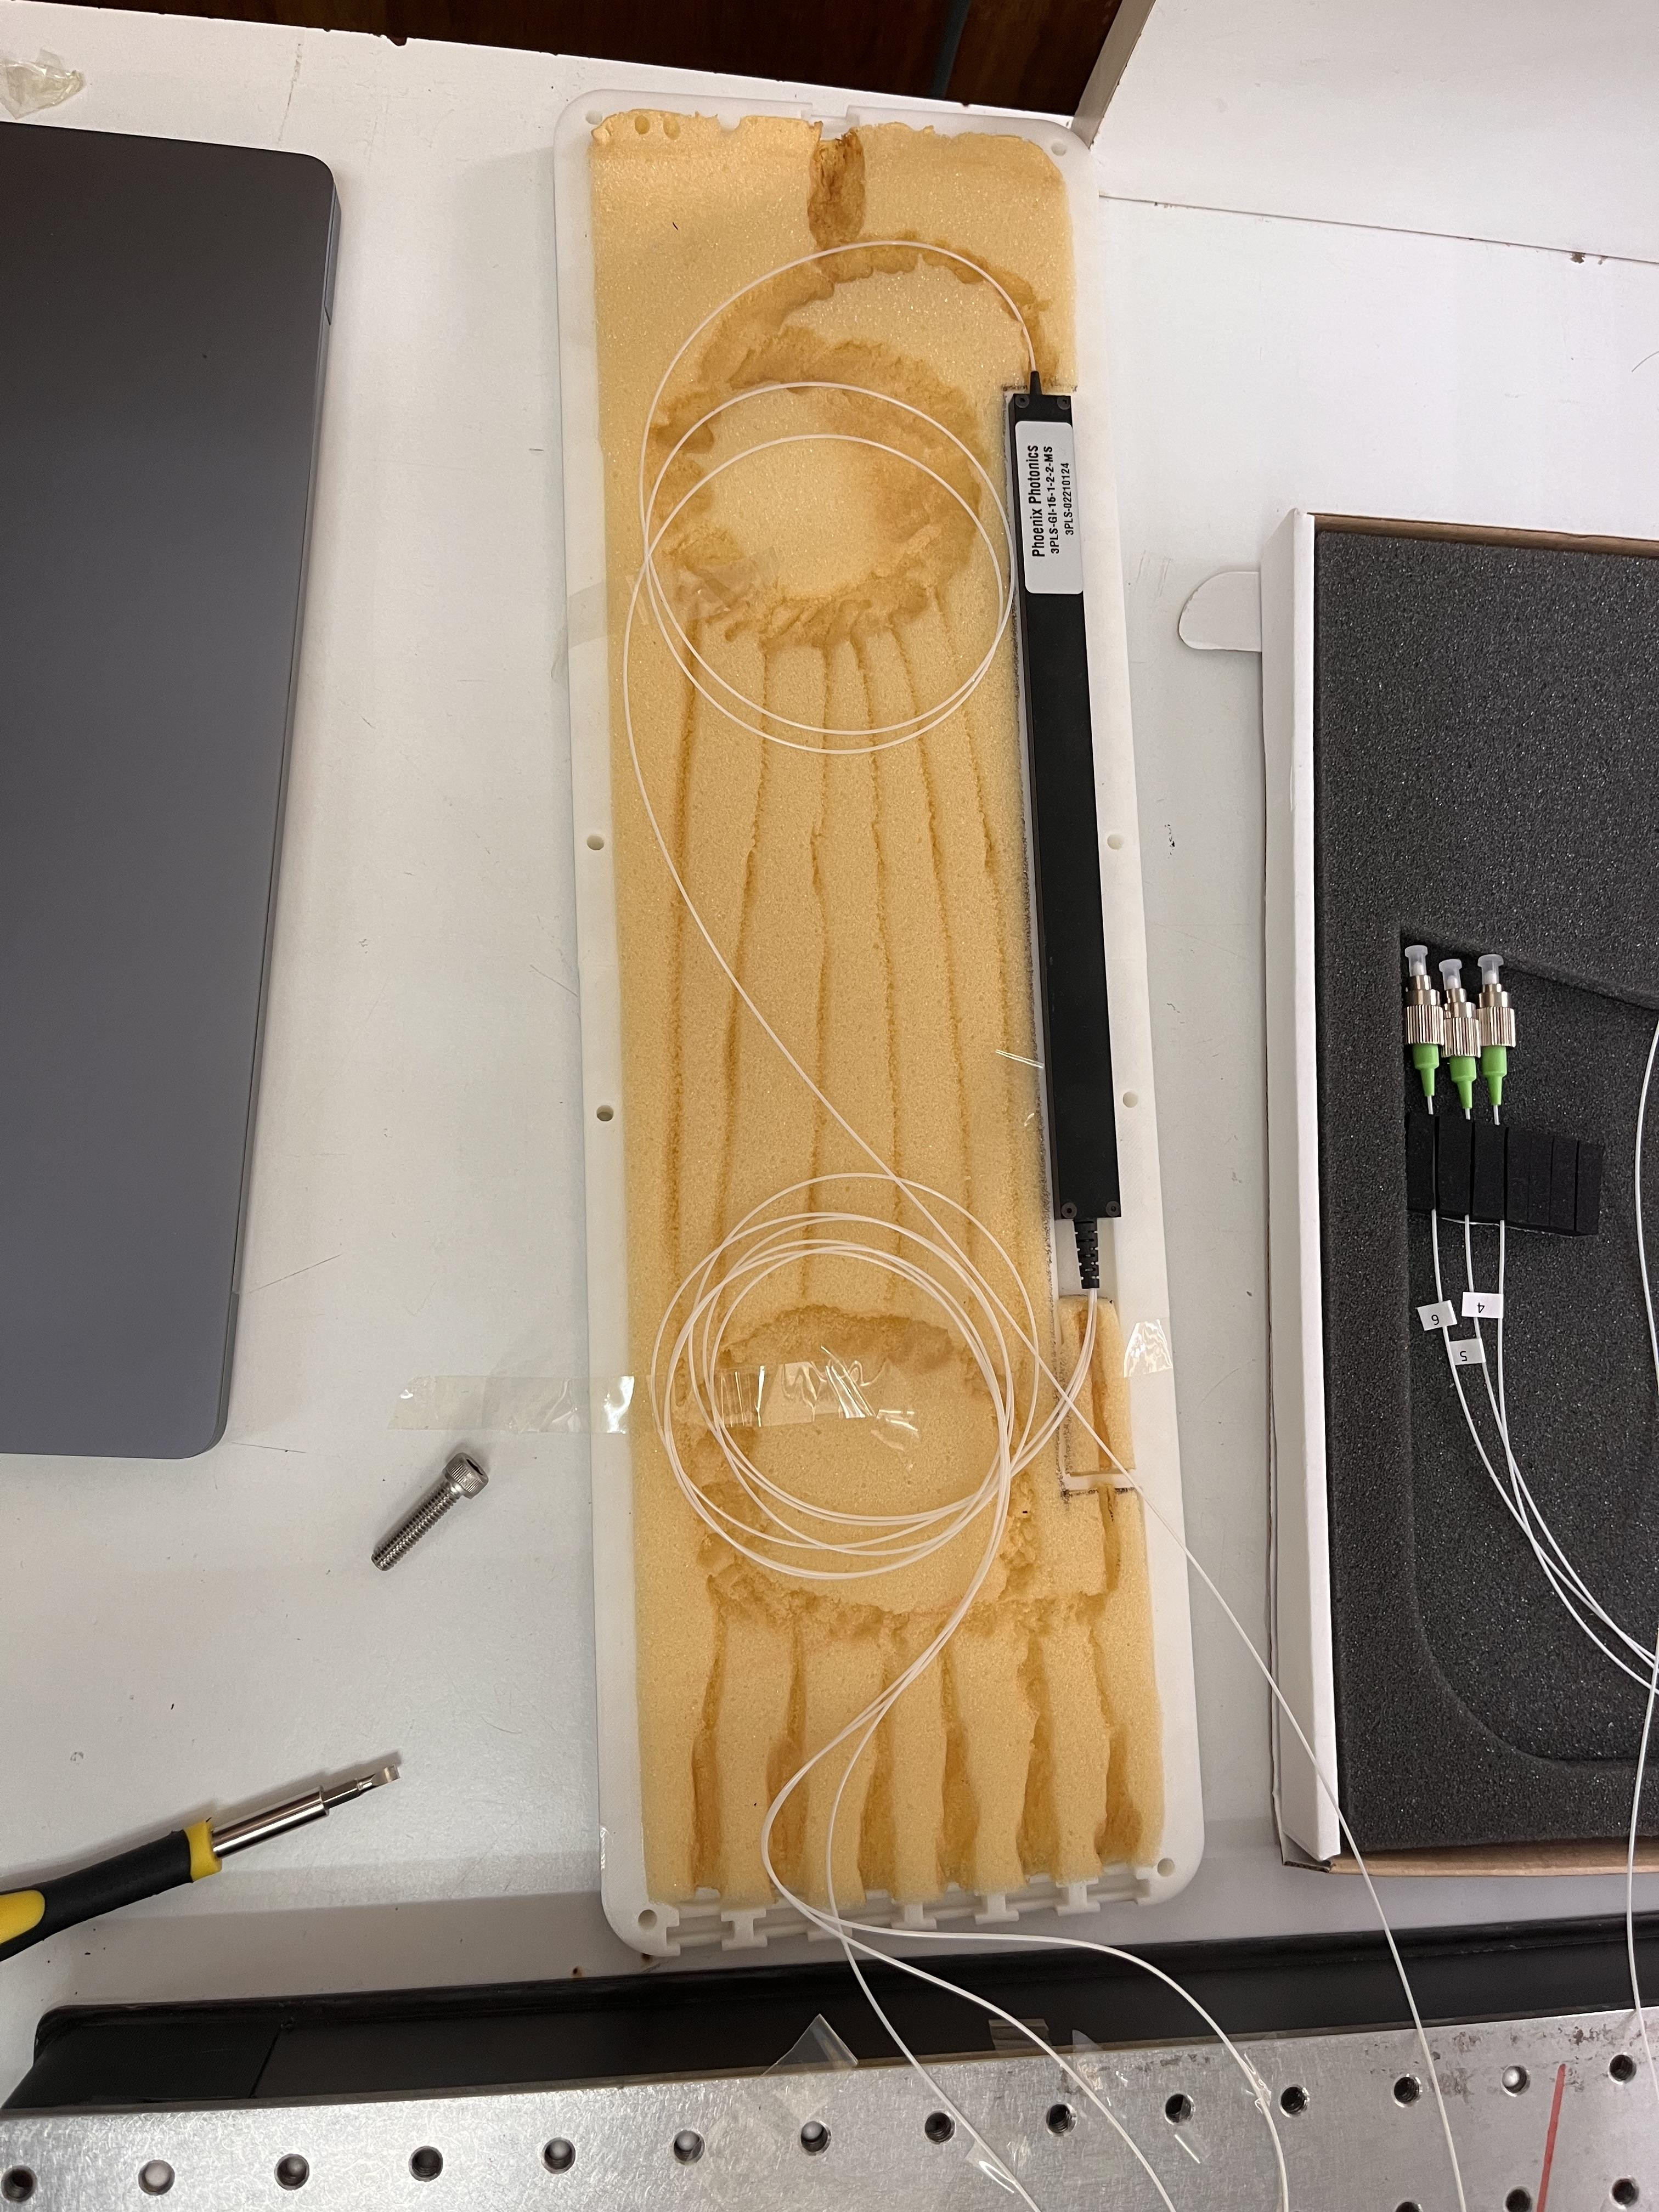fiber_cable: (636, 113, 1141, 1895)
